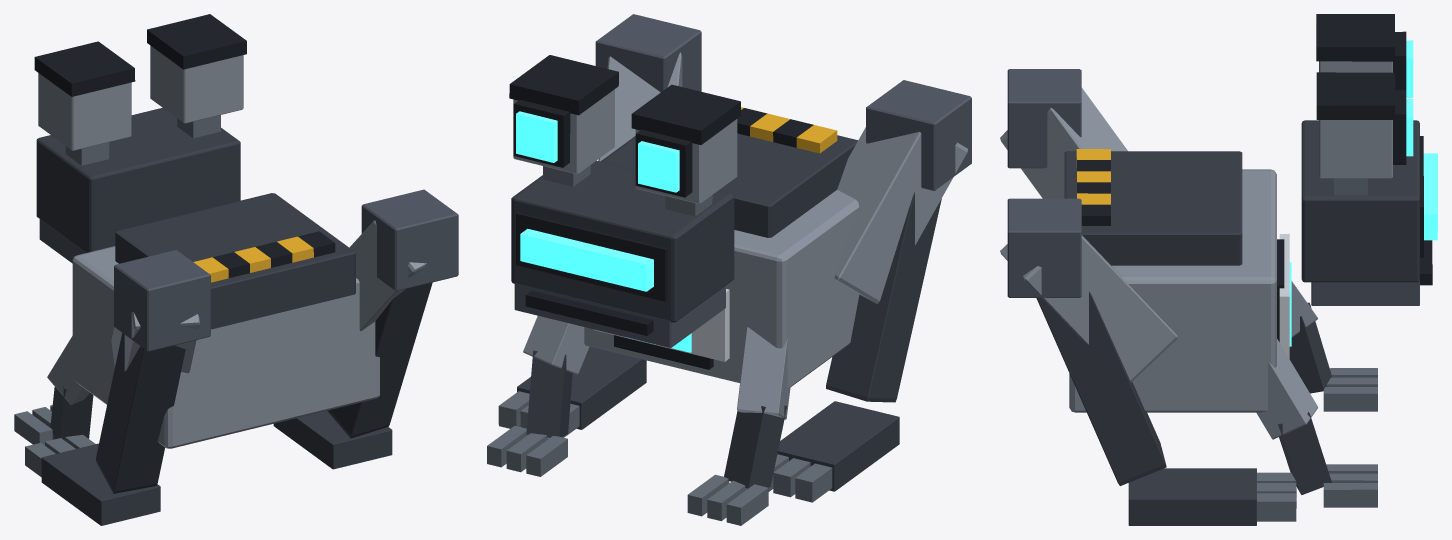
Rendered from mecha-froggo.glb.
The picture shows the model from 3 angles, left to right: view 1: azimuth 30°, elevation 25°; view 2: azimuth 150°, elevation 25°; view 3: azimuth 270°, elevation 25°; orthographic projection. The views are drawn at different scales.
Parts seen in each view (by area): view 1: body, head, leg.BR, leg.BL, arm.R; view 2: head, leg.BR, body, leg.BL, arm.R, arm.L; view 3: body, head, leg.BL, leg.BR, arm.L, arm.R.
Part boxes in pixels (bbox=[...]): body: bbox=[72, 193, 379, 448]; head: bbox=[34, 14, 246, 263]; leg.BR: bbox=[25, 250, 210, 525]; leg.BL: bbox=[273, 189, 458, 469]; arm.R: bbox=[14, 334, 93, 445]; head: bbox=[509, 55, 740, 347]; leg.BR: bbox=[768, 80, 971, 502]; body: bbox=[584, 107, 859, 388]; leg.BL: bbox=[498, 14, 701, 438]; arm.R: bbox=[687, 327, 790, 525]; arm.L: bbox=[487, 316, 589, 476]; body: bbox=[1064, 149, 1291, 412]; head: bbox=[1301, 14, 1437, 305]; leg.BL: bbox=[1000, 198, 1296, 525]; leg.BR: bbox=[1000, 69, 1127, 198]; arm.L: bbox=[1256, 339, 1377, 507]; arm.R: bbox=[1289, 281, 1377, 411].
Size of the model in its own units: 0.9212 by 1 by 1.02.
